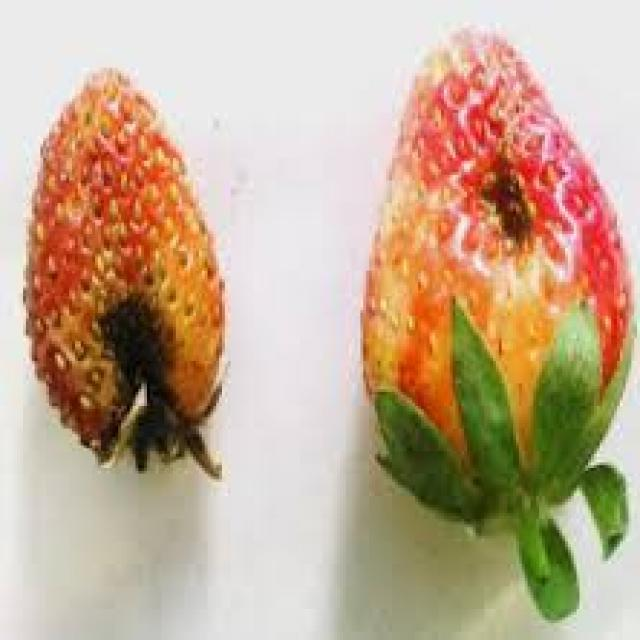Mancha negra Antracnosis: (342, 18, 631, 572), (20, 66, 238, 463)
